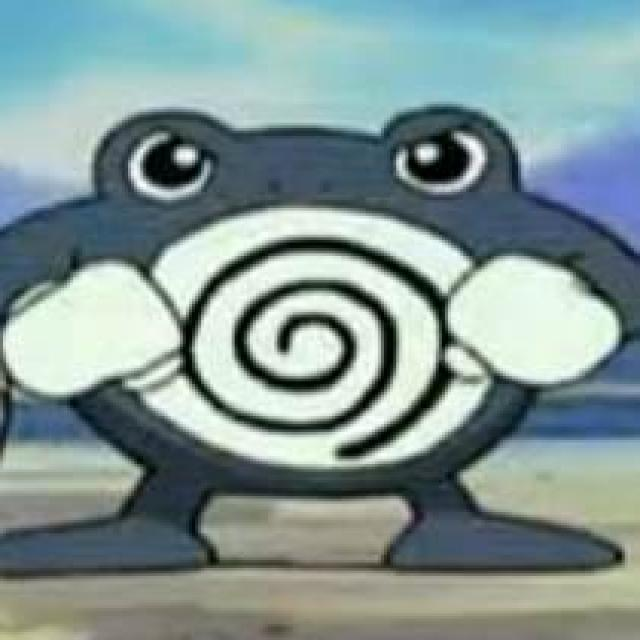Poliwhirl: (0, 109, 640, 483)
